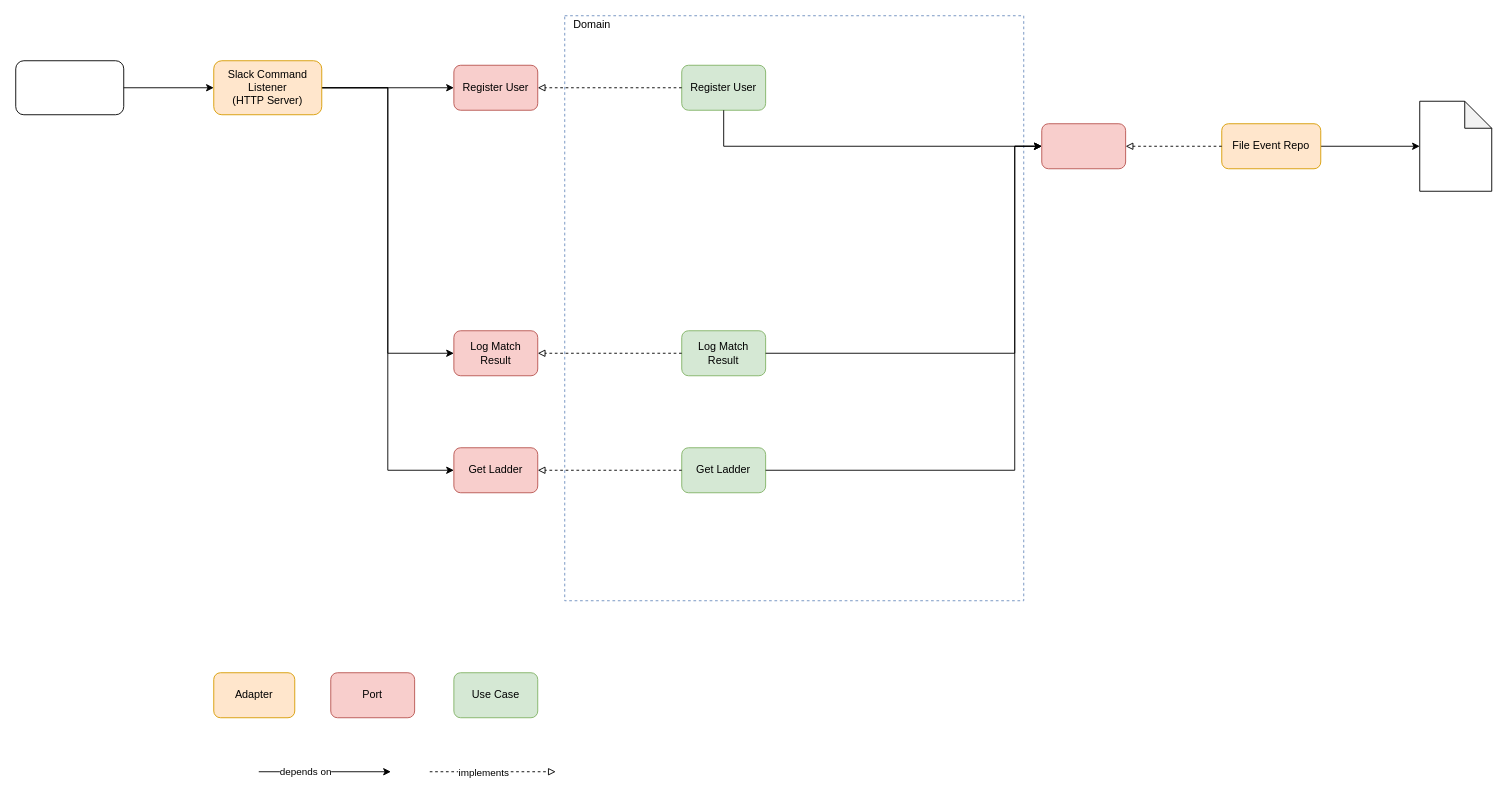
The diagram is 1508 pixels wide and 795 high, and some of its shapes have lost their labels. The shapes that lost their labels are listed below. From the top down, each one's centre as x and y in pixels, then its label:
At pixel 69 87: "Slack".
At pixel 1083 146: "Event Repo".
At pixel 1455 145: "events.json (file)".
